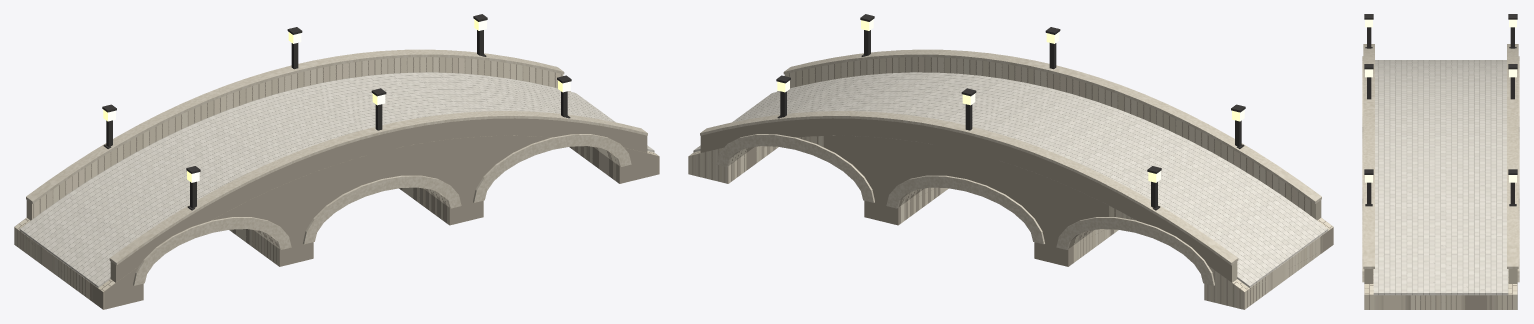
File: jembatan-batu-blender-v1.glb
3 renders of one model, left to right at view 1: azimuth 30°, elevation 25°; view 2: azimuth 150°, elevation 25°; view 3: azimuth 270°, elevation 25°, orthographic. The views are drawn at different scales.
Parts seen in each view (by area): view 1: Deck, Body, Parapet, ParapetCap, ArchTrim, LampPosts, LampGlow; view 2: Deck, Body, Parapet, ParapetCap, ArchTrim, LampPosts, LampGlow; view 3: Deck, ParapetCap, Body, LampPosts, ArchTrim, LampGlow, Parapet.
Part boxes in pixels (x1,y1,x2,y2): Deck: (19,72,654,287); Body: (14,91,659,309); Parapet: (26,57,647,282); ParapetCap: (26,49,647,265); ArchTrim: (133,134,631,285); LampPosts: (102,14,571,210); LampGlow: (103,19,570,182); Deck: (693,72,1328,287); Body: (688,91,1333,309); Parapet: (700,57,1321,282); ParapetCap: (700,49,1321,265); ArchTrim: (716,134,1214,285); LampPosts: (776,14,1245,210); LampGlow: (777,19,1244,182); Deck: (1373,60,1508,295); ParapetCap: (1363,44,1518,268); Body: (1364,269,1517,309); LampPosts: (1364,14,1517,206); ArchTrim: (1362,56,1519,282); LampGlow: (1365,19,1516,182); Parapet: (1364,269,1517,283).
Bounding box in the file's own units: 18.01 × 4.6 × 5.14.
5 materials, 4 textured.
